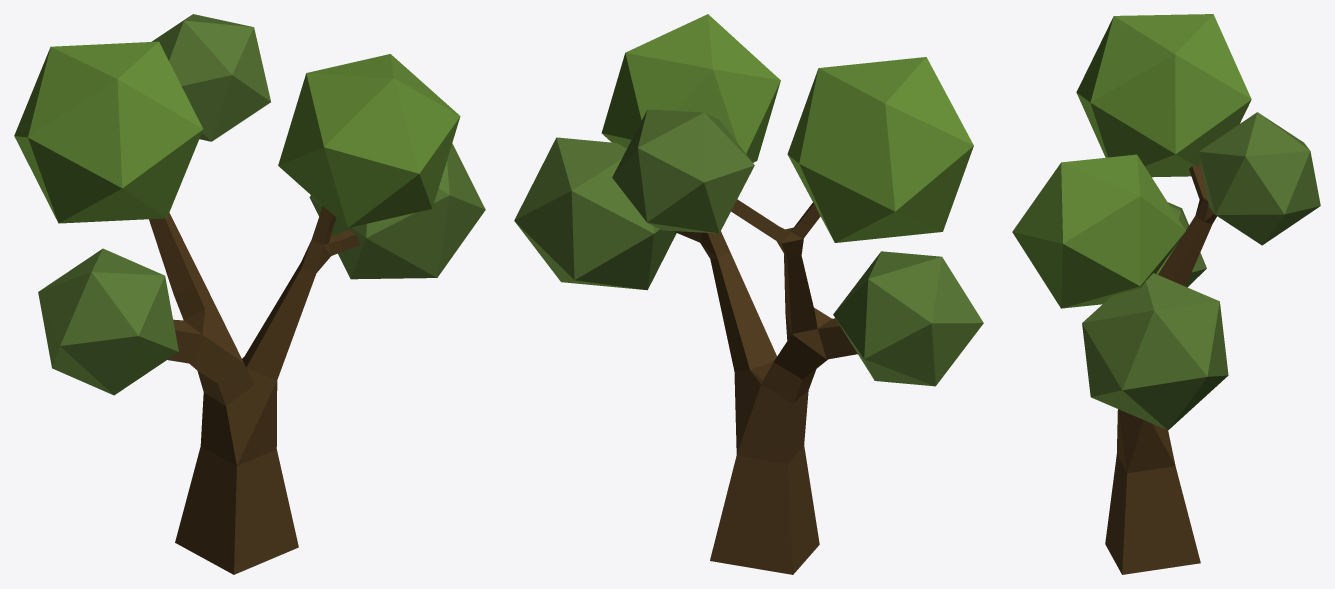
Rendered from Tree1.fbx.
3 views of the same model, side by side, from view 1: azimuth 30°, elevation 25°; view 2: azimuth 150°, elevation 25°; view 3: azimuth 270°, elevation 25° (orthographic). The views are drawn at different scales.
Parts seen in each view (by area): view 1: Cube; view 2: Cube; view 3: Cube.
Part boxes in pixels (<box>): Cube: <box>14,14,485,574</box>; Cube: <box>514,14,983,574</box>; Cube: <box>1012,14,1320,574</box>.
Bounding box in the file's own units: 798 × 898 × 525.
